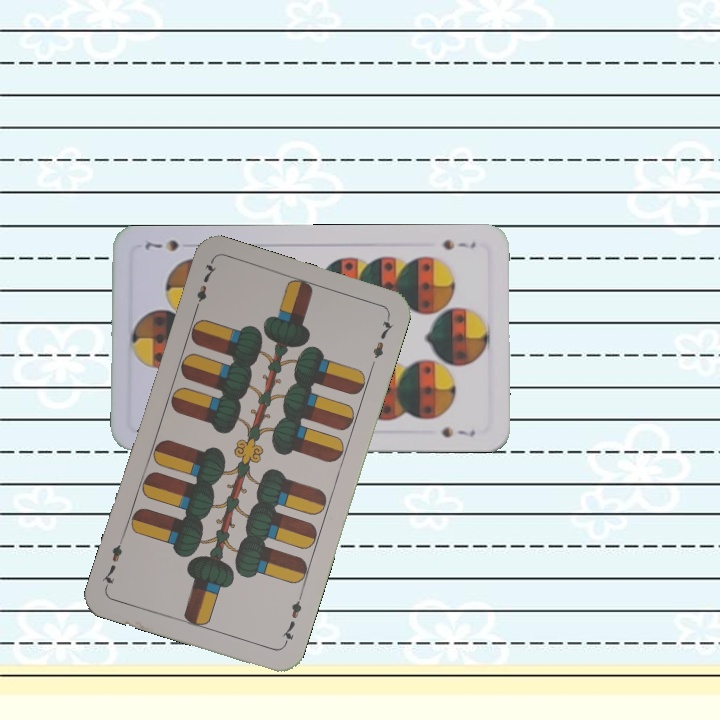E7: (190, 258, 219, 316), (278, 591, 305, 648)
S7: (439, 236, 478, 253)
